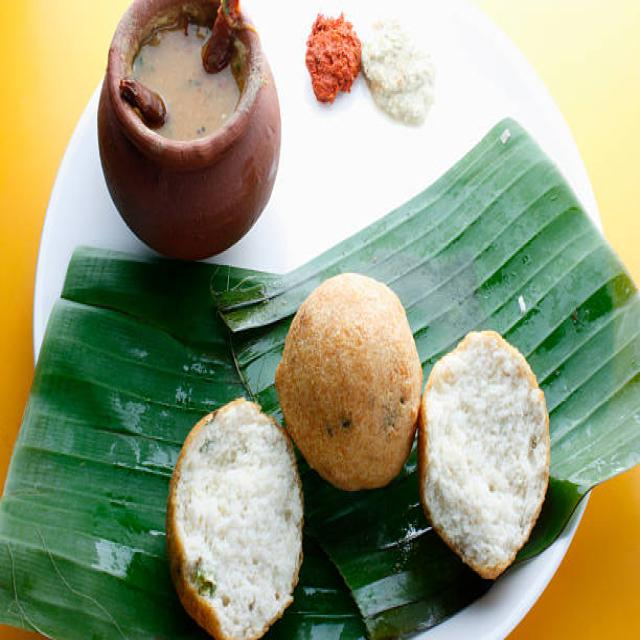BONDA: (144, 274, 565, 640)
SAMBAR: (99, 5, 300, 234)
